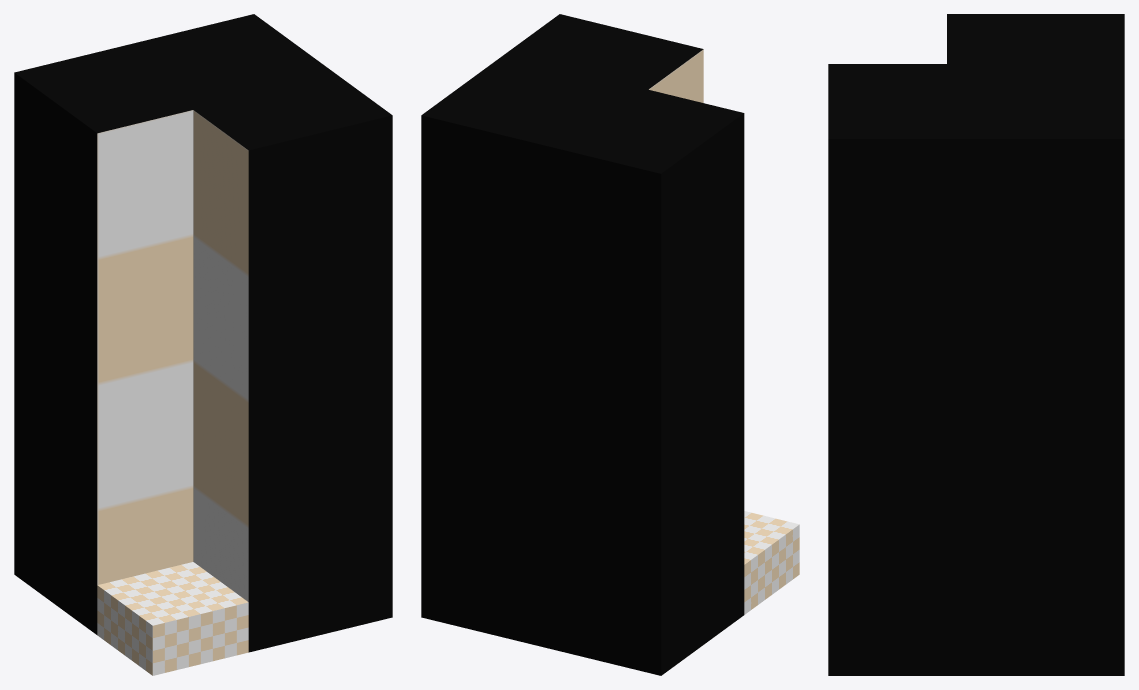
Rendered from Wall_Corner_1.FBX.
The picture shows the model from 3 angles, left to right: view 1: azimuth 30°, elevation 25°; view 2: azimuth 150°, elevation 25°; view 3: azimuth 270°, elevation 25°; orthographic projection. The views are drawn at different scales.
Parts seen in each view (by area): view 1: corner1_wall2, corner1_wall1, Box005; view 2: corner1_wall1, corner1_wall2, Box005; view 3: corner1_wall1, corner1_wall2.
Part boxes in pixels (x1=…): corner1_wall2: x1=193, y1=75, x2=392, y2=652; corner1_wall1: x1=14, y1=14, x2=336, y2=634; Box005: x1=97, y1=562, x2=248, y2=675; corner1_wall1: x1=421, y1=54, x2=744, y2=675; corner1_wall2: x1=504, y1=14, x2=703, y2=102; Box005: x1=744, y1=511, x2=799, y2=614; corner1_wall1: x1=947, y1=14, x2=1124, y2=675; corner1_wall2: x1=828, y1=64, x2=946, y2=675.
Bounding box in the file's own units: 50 × 100 × 50.
2 materials, 2 textured.
